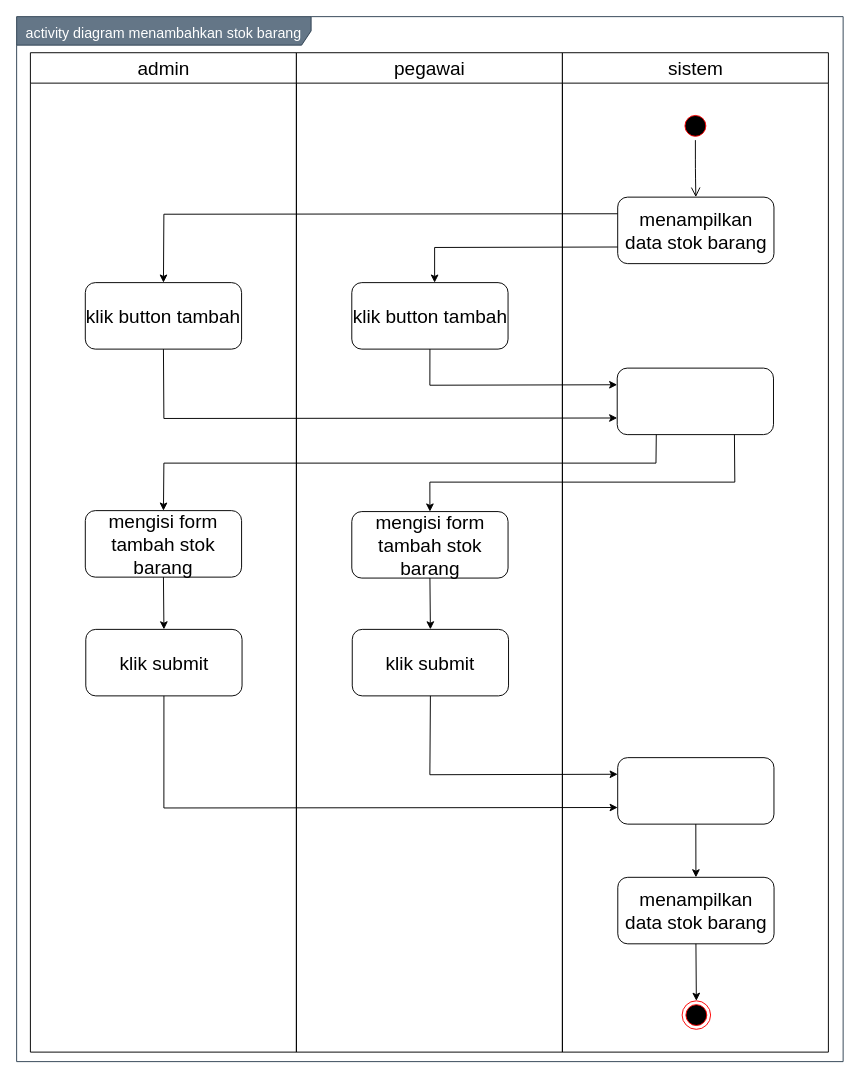
This 860x1078 diagram has some shape labels left out. The shapes that lost their labels are listed below. From the top down, each one's centre as x and y in pixels, then its label:
the point at 694,401: menampilkan form tambah stok barang
the point at 695,790: menyimpan ke database
